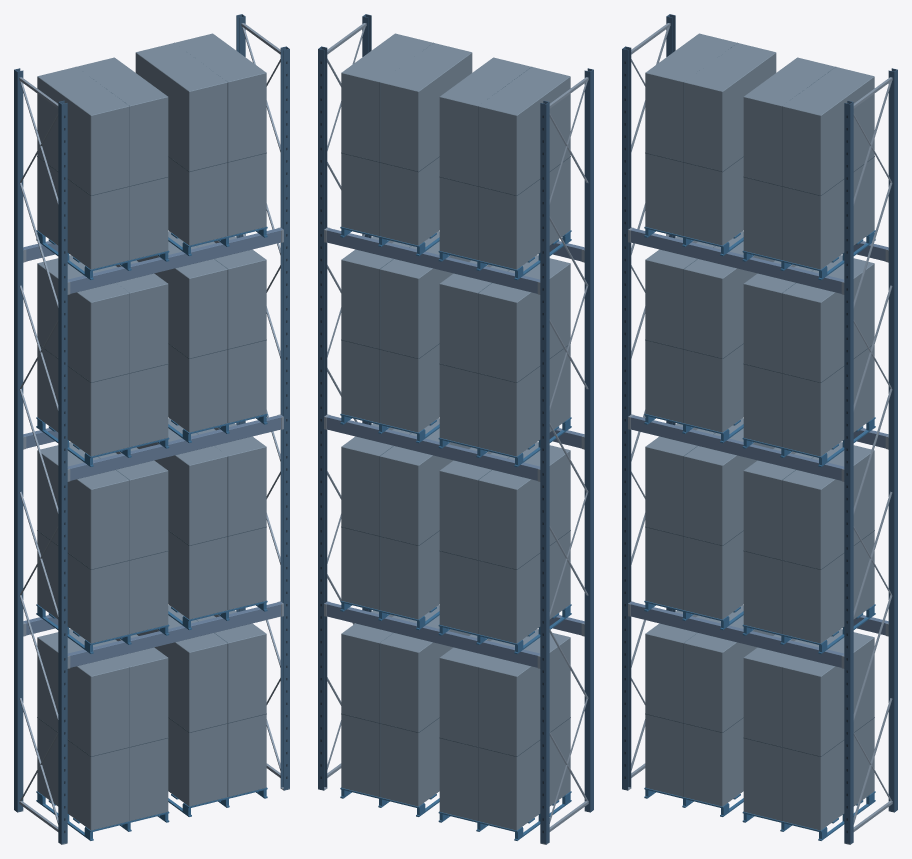
File: SM_GHS_CADRack_A_W29505.fbx
3 renders of one model, left to right at view 1: azimuth 30°, elevation 25°; view 2: azimuth 150°, elevation 25°; view 3: azimuth 330°, elevation 25°, orthographic.
Visible parts, largest first — view 1: SM_GHS_CADRack_A_W29505; view 2: SM_GHS_CADRack_A_W29505; view 3: SM_GHS_CADRack_A_W29505.
Part boxes in pixels (left/top/right/bottom): SM_GHS_CADRack_A_W29505: left=14, top=14, right=289, bottom=844; SM_GHS_CADRack_A_W29505: left=318, top=14, right=593, bottom=844; SM_GHS_CADRack_A_W29505: left=622, top=14, right=897, bottom=844.
Bounding box in the file's own units: 295 × 122 × 915.
